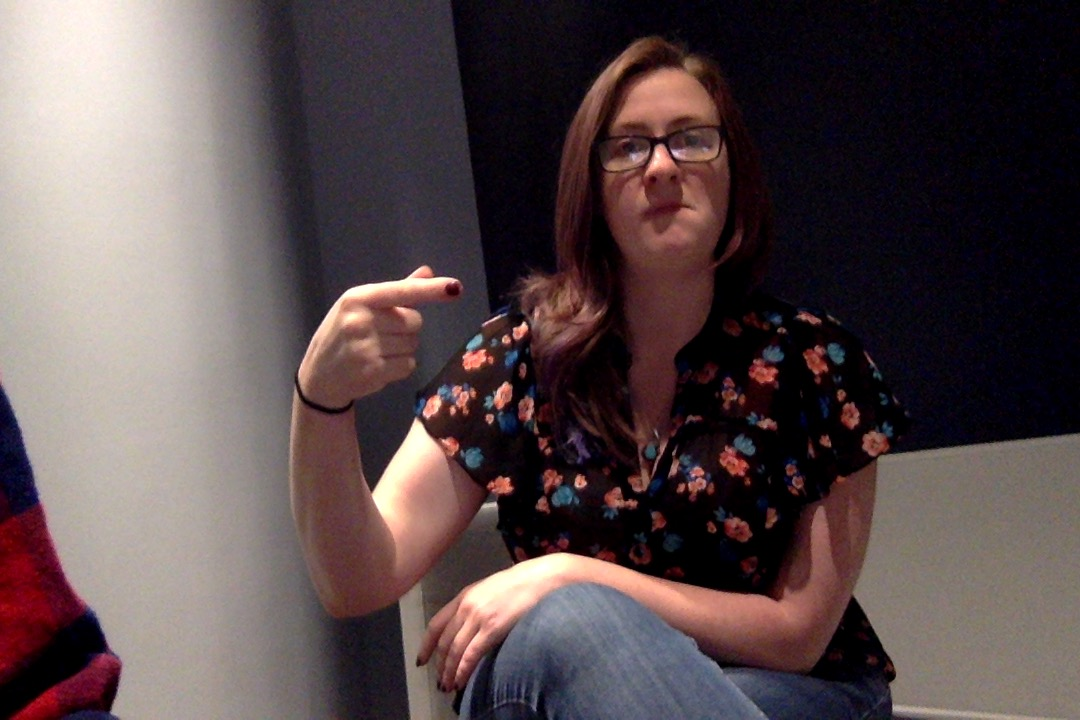g: (284, 253, 476, 443)
